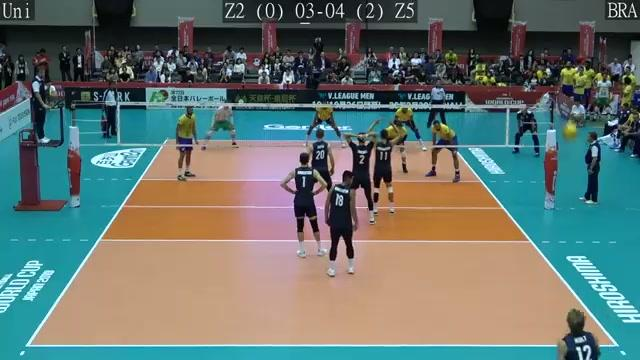ball: (564, 119, 580, 138)
